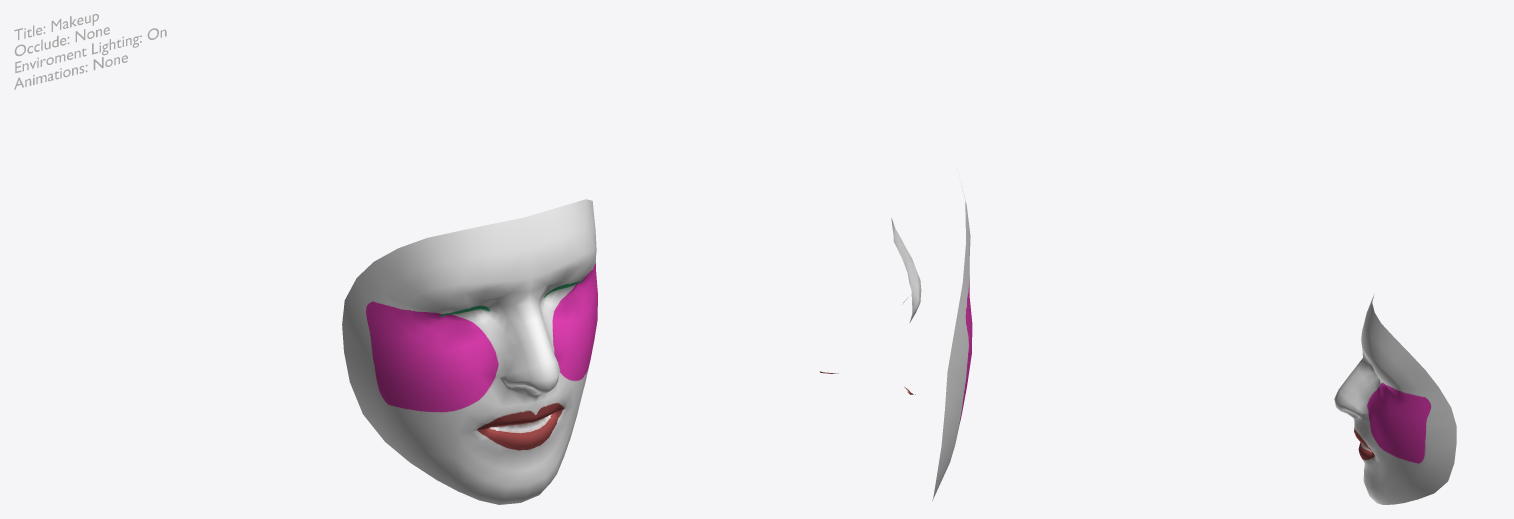
The model's file is Makeup.glb.
3 renders of one model, left to right at view 1: azimuth 30°, elevation 25°; view 2: azimuth 150°, elevation 25°; view 3: azimuth 270°, elevation 25°, orthographic. The views are drawn at different scales.
Parts seen in each view (by area): view 1: Makeup, _Makeup; view 2: Makeup; view 3: Makeup.
Boxes of the visible parts, x1=… form: Makeup: x1=342, y1=199, x2=597, y2=504; _Makeup: x1=14, y1=14, x2=166, y2=89; Makeup: x1=820, y1=186, x2=972, y2=500; Makeup: x1=1334, y1=294, x2=1456, y2=504.
Bounding box in the file's own units: 34.54 × 31.27 × 13.55.
1 material, 1 textured.
